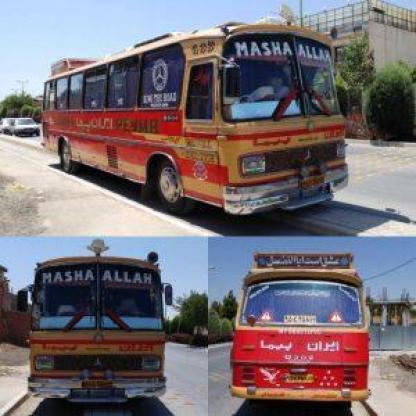Bus: (39, 23, 355, 214), (14, 247, 177, 410), (218, 247, 382, 405)
Car: (8, 116, 36, 136)
